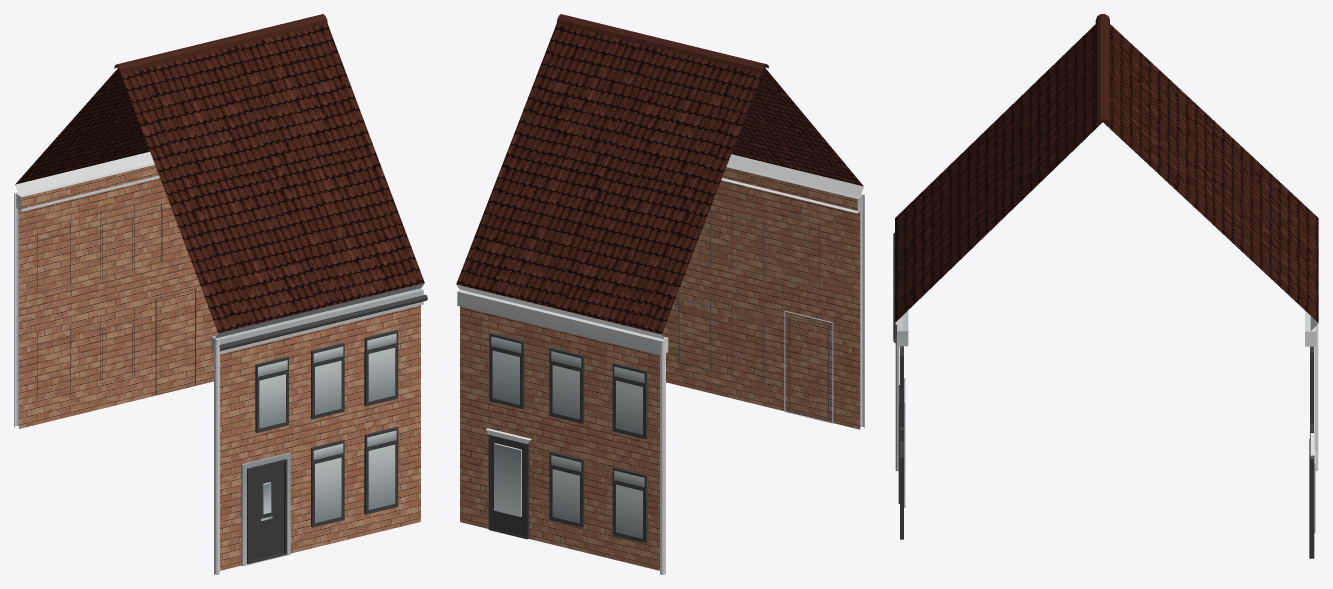
Rendered from It_Tek_28.fbx.
The picture shows the model from 3 angles, left to right: view 1: azimuth 30°, elevation 25°; view 2: azimuth 150°, elevation 25°; view 3: azimuth 270°, elevation 25°; orthographic projection. The views are drawn at different scales.
Visible parts, largest first — view 1: It_Tek_28; view 2: It_Tek_28; view 3: It_Tek_28.
Part boxes in pixels (x1,y1,x2,y2): It_Tek_28: (14, 14, 427, 574); It_Tek_28: (456, 14, 864, 574); It_Tek_28: (893, 14, 1318, 558).
Size of the model in its own units: 559 by 1107 by 937.
